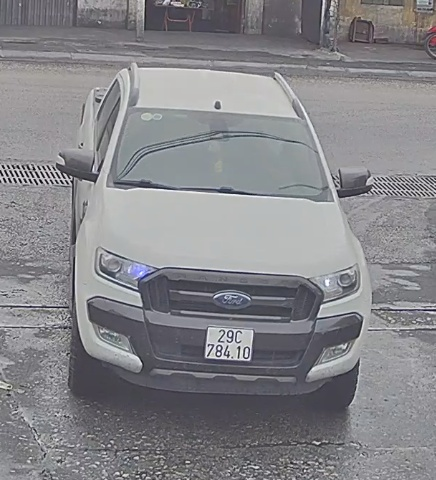vehicle plate: (198, 320, 264, 370)
